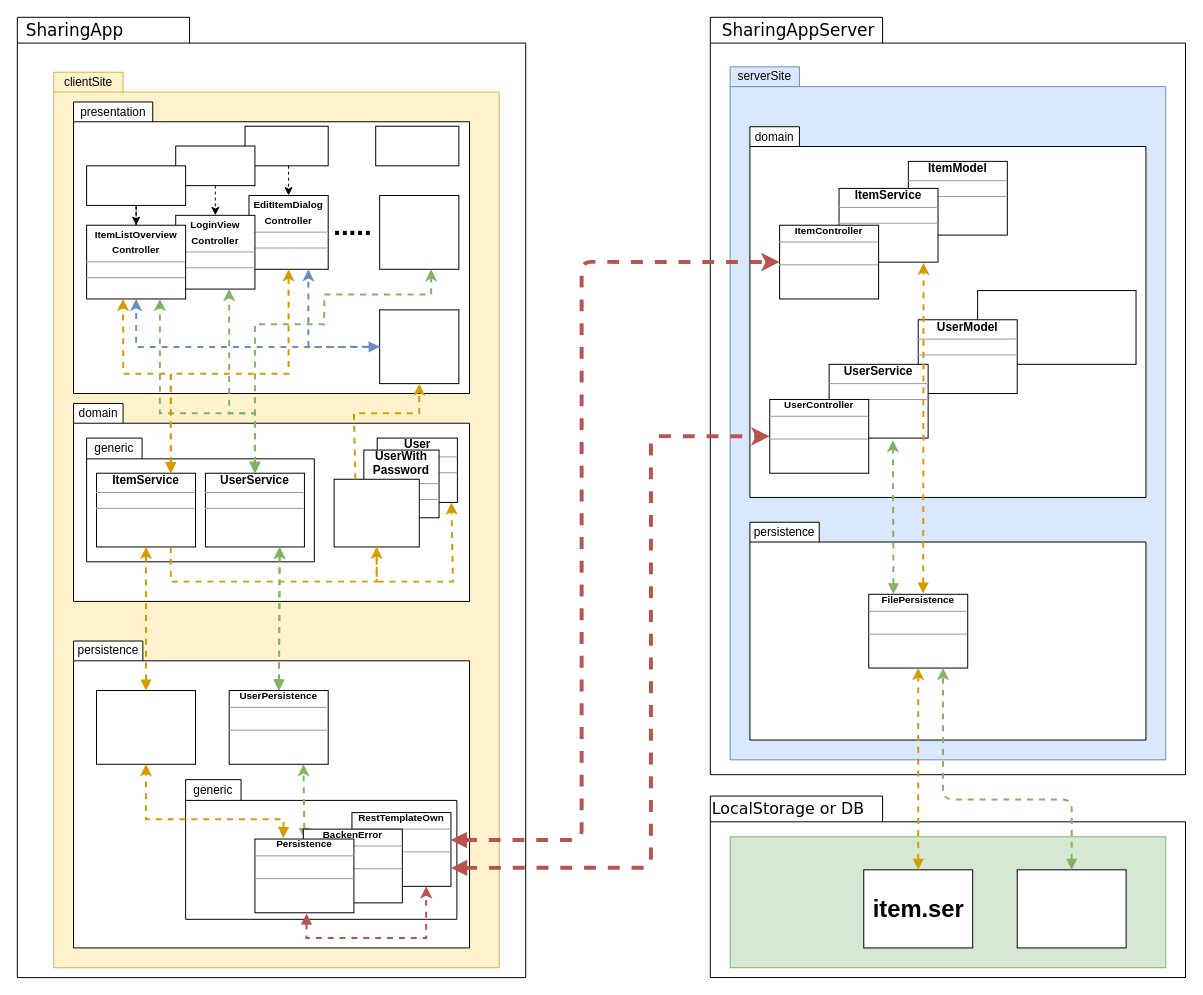
Some shapes in this 1203 by 995 pixel diagram are drawn without their labels. Here are the shapes that lost their labels. From the top down, the centre of each, then its label:
At point 215,165: "LoginView (FXML)".
At point 286,145: "EditItemDialog (FXML)".
At point 417,145: "RootLayout (FXML)".
At point 136,185: "ItemListOverview (FXML)".
At point 419,232: "RootLayout Controller".
At point 419,346: "ItemFxView".
At point 1056,327: "UserModelWithPassword".
At point 376,512: "ItemToShare".
At point 146,727: "ItemPersistence".
At point 1071,908: "user.ser".
